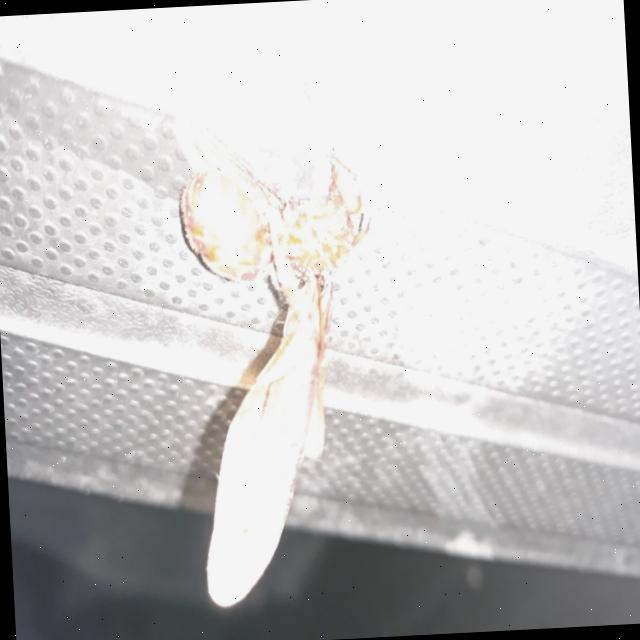Dead-Female-Alate: (175, 142, 392, 610)
